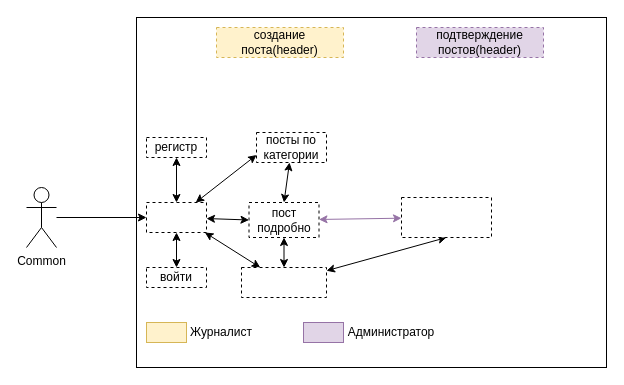
This 624x385 diagram has some shape labels left out. Each missing label, with the box of its shape:
гл. стр. (header): (146, 202, 206, 232)
профиль пользоват.: (240, 266, 326, 298)
редакт. своего профиля: (400, 196, 492, 238)
